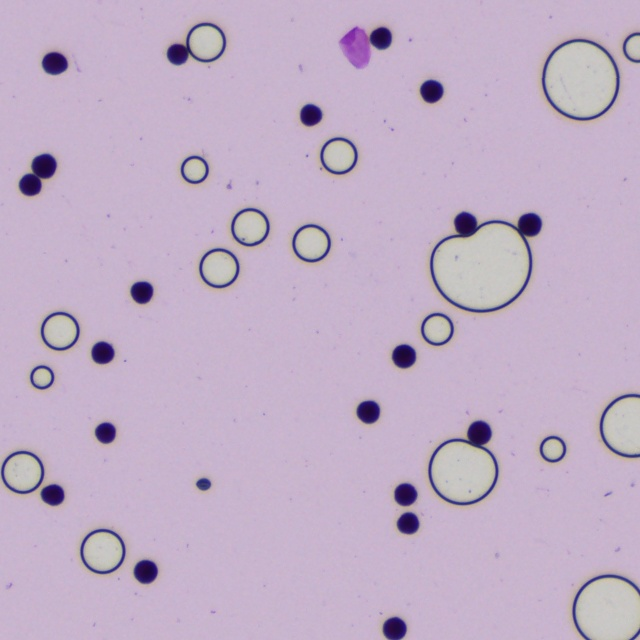non_viable: (196, 478, 210, 490)
viable: (42, 52, 67, 74), (134, 560, 157, 583), (392, 344, 415, 367), (383, 617, 406, 639), (357, 401, 379, 423), (420, 80, 442, 102), (455, 213, 476, 236), (468, 422, 489, 445), (395, 483, 416, 505), (369, 27, 391, 48), (92, 342, 113, 363), (33, 155, 54, 176), (300, 104, 321, 125), (131, 282, 152, 303), (519, 214, 540, 234), (95, 423, 115, 442), (42, 485, 62, 504), (20, 175, 39, 194), (398, 514, 417, 532), (168, 45, 188, 62)
